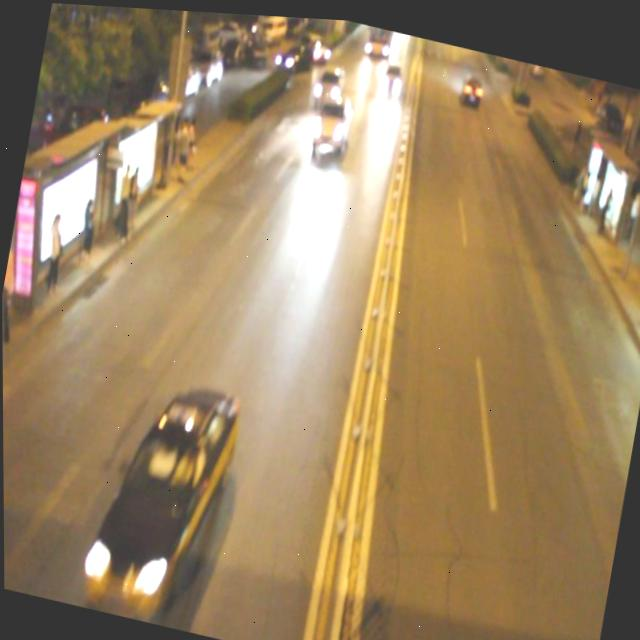car: (77, 358, 245, 627), (308, 82, 357, 156), (310, 54, 347, 107), (458, 62, 486, 100)
truck: (377, 50, 405, 95)
